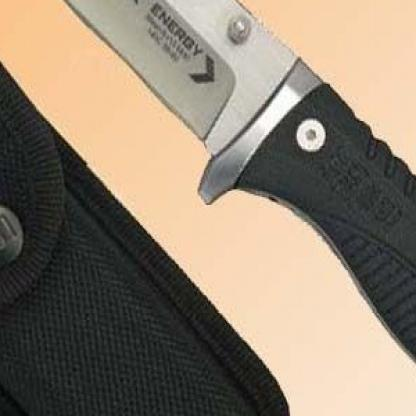knife: (0, 0, 372, 235)
